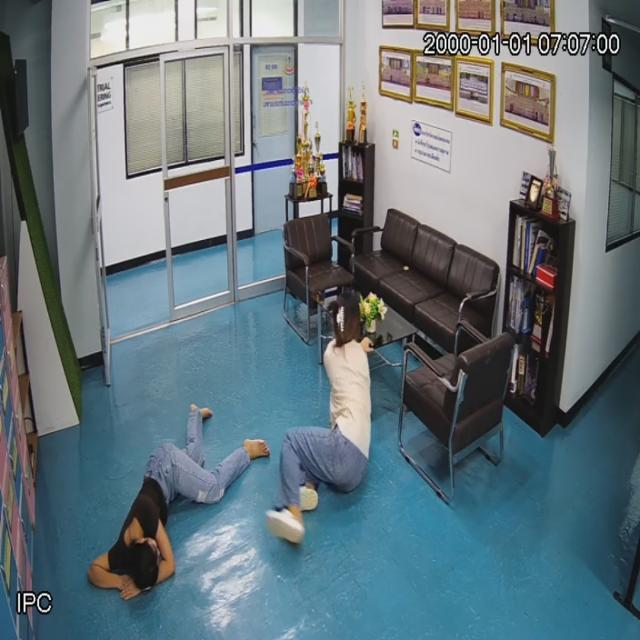fall: (92, 407, 242, 596), (268, 298, 371, 546)
